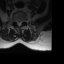CCS_normal: (18, 19, 20, 27)
LFS_severe_stenosis: (22, 18, 24, 23)
LLS_normal: (20, 19, 22, 26)
RFS_severe_stenosis: (14, 17, 16, 23)
RLS_normal: (16, 19, 18, 26)
